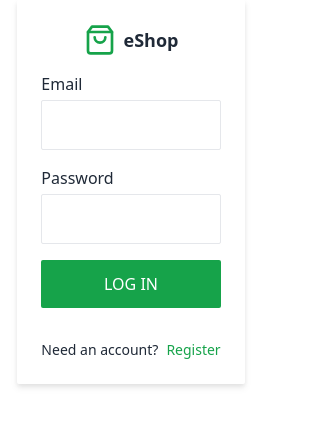
it: LoginForm component › should show error message on blur if email format is not valid
Type "badformat" into the field labelled "Email" at coordinates (131, 125), box [41,100,221,150]
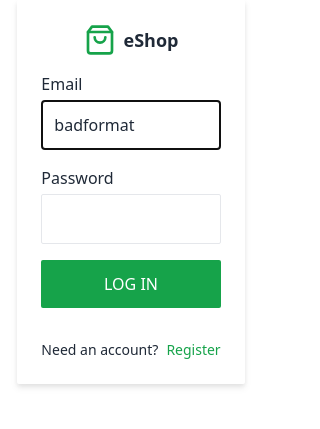
Press Tab
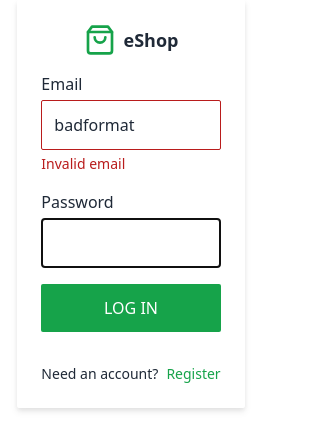
Result: the text "Invalid email" is shown at [41,154,125,173]
